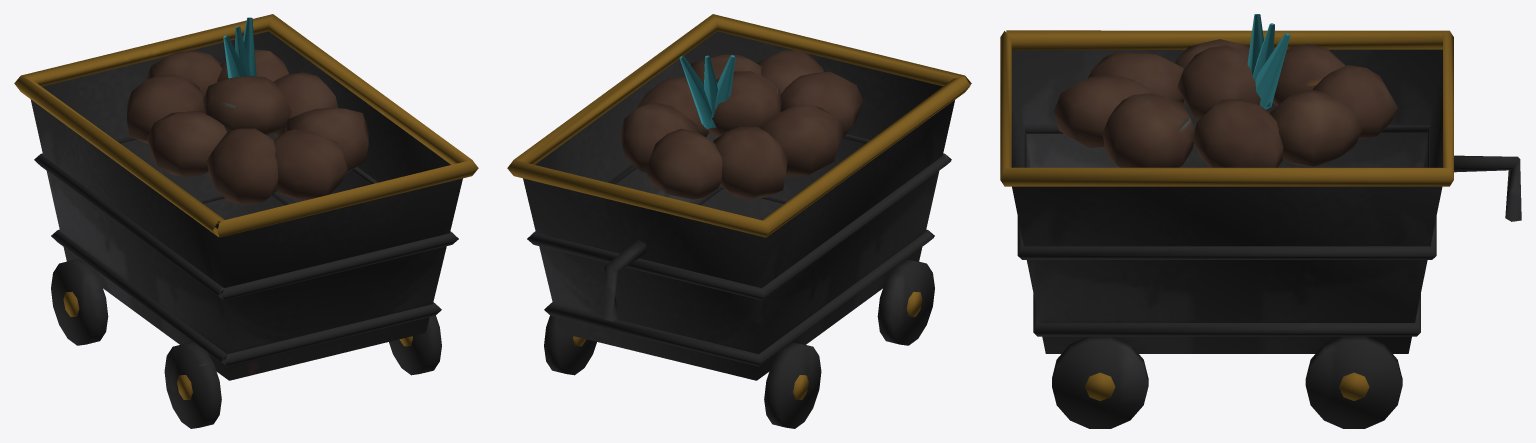
Rendered from mine_cart.obj.
3 views of the same model, side by side, from view 1: azimuth 30°, elevation 25°; view 2: azimuth 150°, elevation 25°; view 3: azimuth 270°, elevation 25° (orthographic). The views are drawn at different scales.
Parts seen in each view (by area): view 1: part0, part3, part1, part2, fire; view 2: part0, part3, part1, part2, fire; view 3: part0, part3, part1, part2, fire.
Part boxes in pixels (left/top/right/bottom): part0: left=30, top=31, right=462, bottom=380; part3: left=127, top=49, right=368, bottom=205; part1: left=34, top=136, right=458, bottom=428; part2: left=14, top=14, right=478, bottom=399; fire: left=223, top=17, right=256, bottom=78; part0: left=523, top=31, right=954, bottom=380; part3: left=619, top=50, right=862, bottom=199; part1: left=527, top=134, right=951, bottom=428; part2: left=507, top=14, right=971, bottom=399; fire: left=679, top=55, right=735, bottom=128; part0: left=1011, top=49, right=1442, bottom=353; part3: left=1053, top=39, right=1397, bottom=167; part1: left=1017, top=124, right=1521, bottom=428; part2: left=1000, top=30, right=1453, bottom=400; fire: left=1247, top=14, right=1290, bottom=109.
Size of the model in its own units: 1.12 by 1.27 by 1.72.
